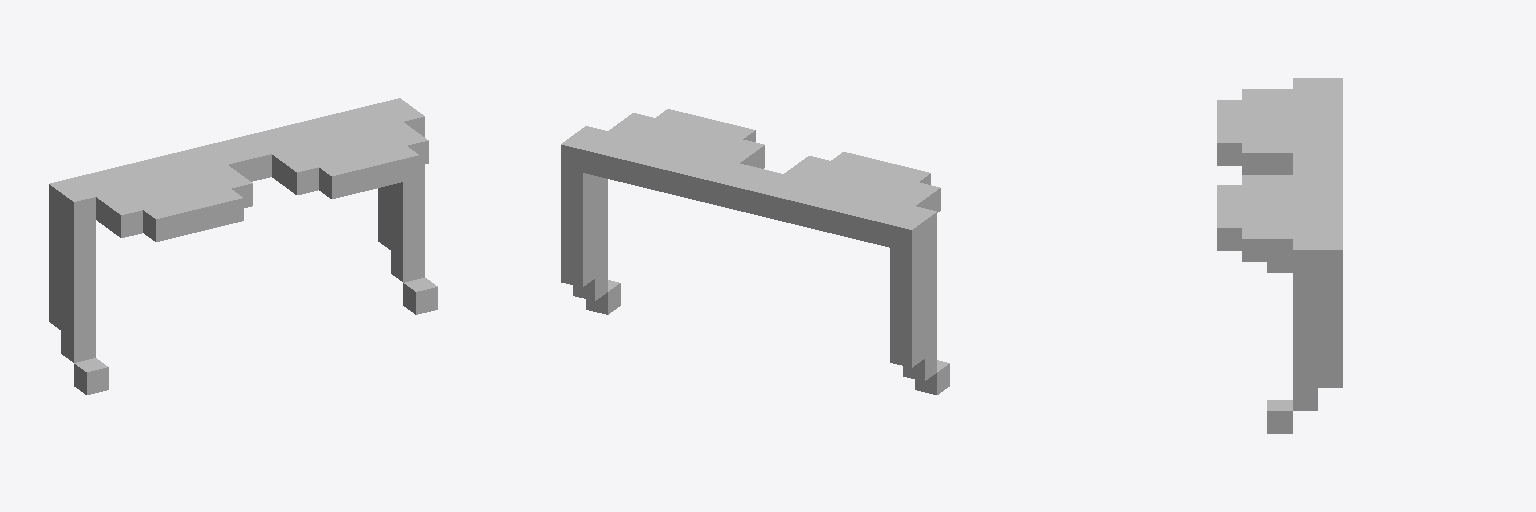
File: Glasses2.obj
3 views of the same model, side by side, from view 1: azimuth 30°, elevation 25°; view 2: azimuth 150°, elevation 25°; view 3: azimuth 270°, elevation 25° (orthographic).
Visible parts, largest first — view 1: Untitled.052; view 2: Untitled.052; view 3: Untitled.052.
Part boxes in pixels (x1,y1,x2,y2): Untitled.052: (49, 98, 437, 394); Untitled.052: (561, 109, 949, 394); Untitled.052: (1217, 78, 1342, 433).
Bounding box in the file's own units: 1.6 × 0.8 × 0.5.